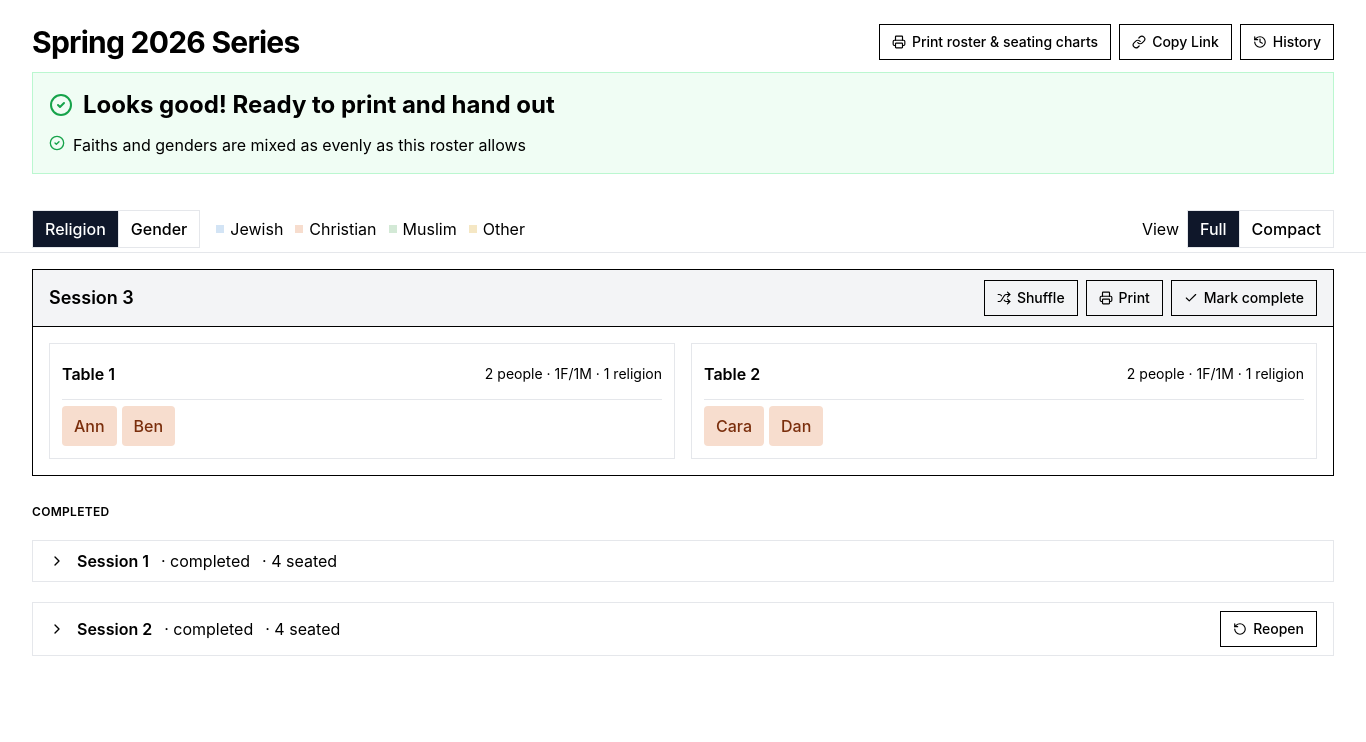
it: AssignmentsPage › says what reopening does and does not free
Click the button "Reopen" at (1269, 629), box [1220,611,1317,647]
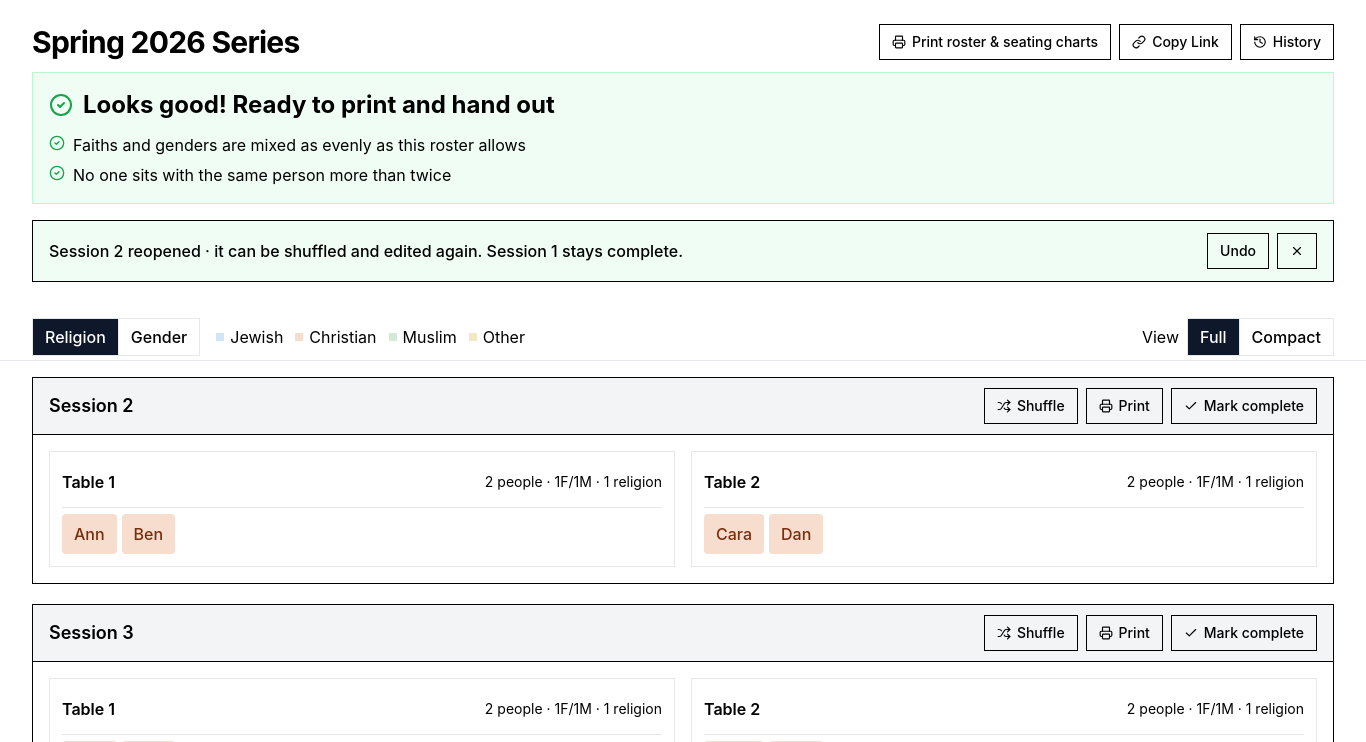
Expected: the text "Session 2 reopened" shows "shuffled and edited again", [49,241,683,261]
Expected: the text "Session 2 reopened" shows "Session 1 stays complete", [49,241,683,261]
